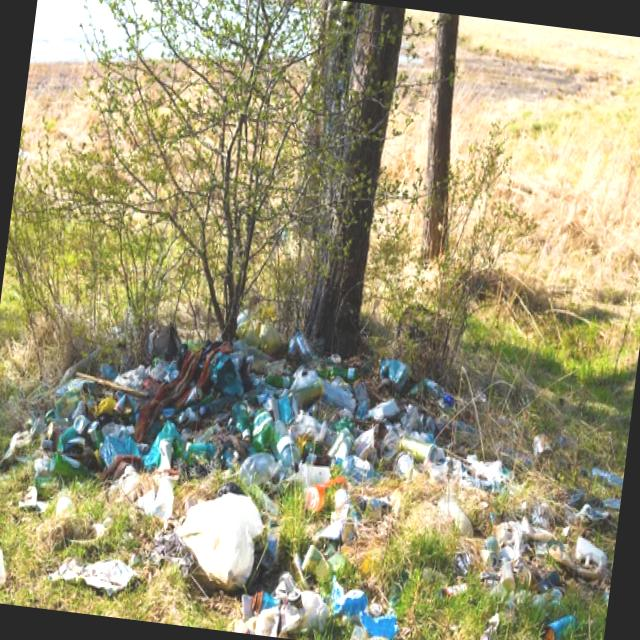garbage: (3, 273, 554, 622)
